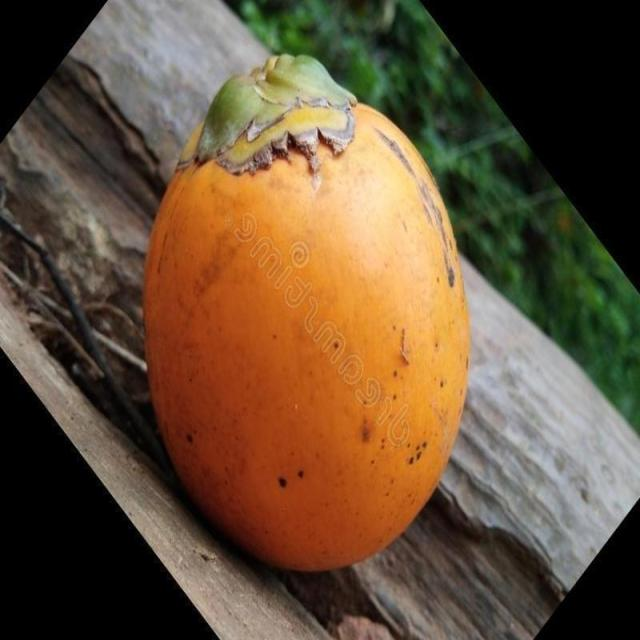good: (142, 55, 472, 577)
